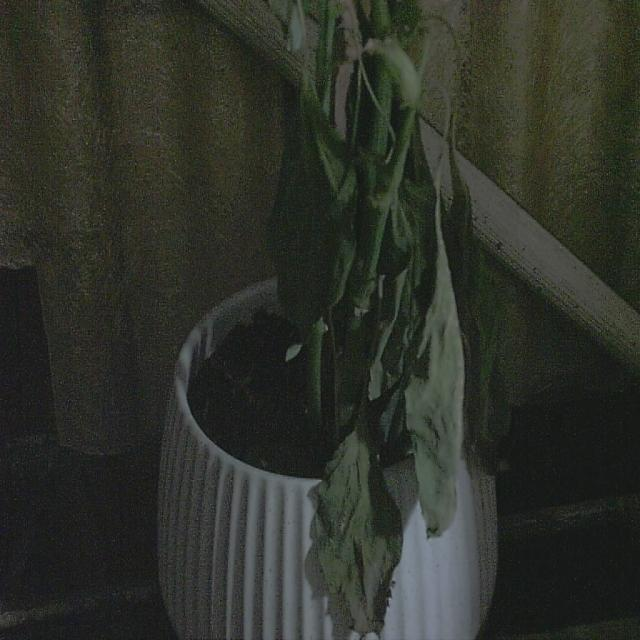Leaf: (313, 418, 406, 635), (402, 228, 465, 541)
